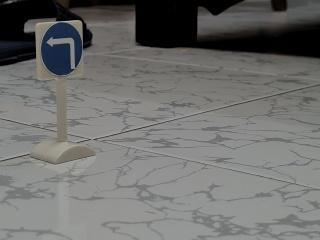left: (33, 20, 85, 78)
